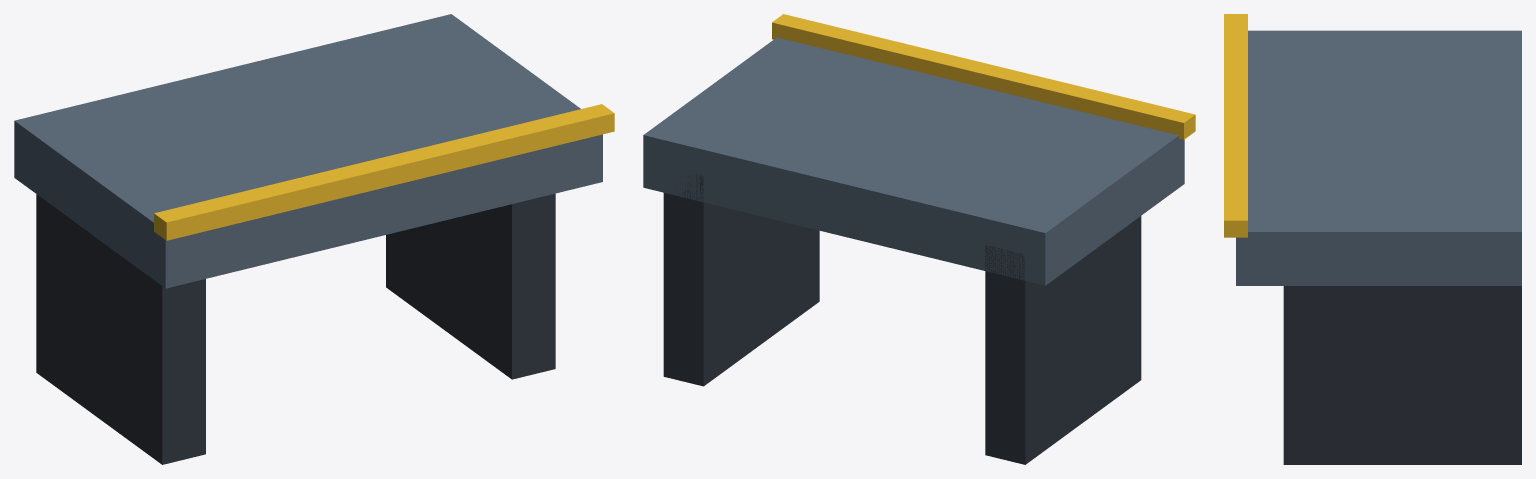
The model's file is robot_ledge_bracket.glb.
3 renders of one model, left to right at view 1: azimuth 30°, elevation 25°; view 2: azimuth 150°, elevation 25°; view 3: azimuth 270°, elevation 25°, orthographic. The views are drawn at different scales.
Visible parts, largest first — view 1: robot_ledge_bracket_steel, robot_ledge_bracket_steelDark, robot_ledge_bracket_yellow; view 2: robot_ledge_bracket_steel, robot_ledge_bracket_steelDark, robot_ledge_bracket_yellow; view 3: robot_ledge_bracket_steel, robot_ledge_bracket_steelDark, robot_ledge_bracket_yellow.
Part boxes in pixels (left/top/right/bottom): robot_ledge_bracket_steel: left=14, top=14, right=602, bottom=288; robot_ledge_bracket_steelDark: left=36, top=193, right=555, bottom=464; robot_ledge_bracket_yellow: left=154, top=104, right=614, bottom=240; robot_ledge_bracket_steel: left=643, top=37, right=1184, bottom=285; robot_ledge_bracket_steelDark: left=663, top=174, right=1141, bottom=464; robot_ledge_bracket_yellow: left=772, top=14, right=1195, bottom=139; robot_ledge_bracket_steel: left=1236, top=30, right=1521, bottom=285; robot_ledge_bracket_steelDark: left=1283, top=286, right=1521, bottom=464; robot_ledge_bracket_yellow: left=1224, top=14, right=1247, bottom=237.
Bounding box in the file's own units: 2.05 × 1.19 × 1.25.
